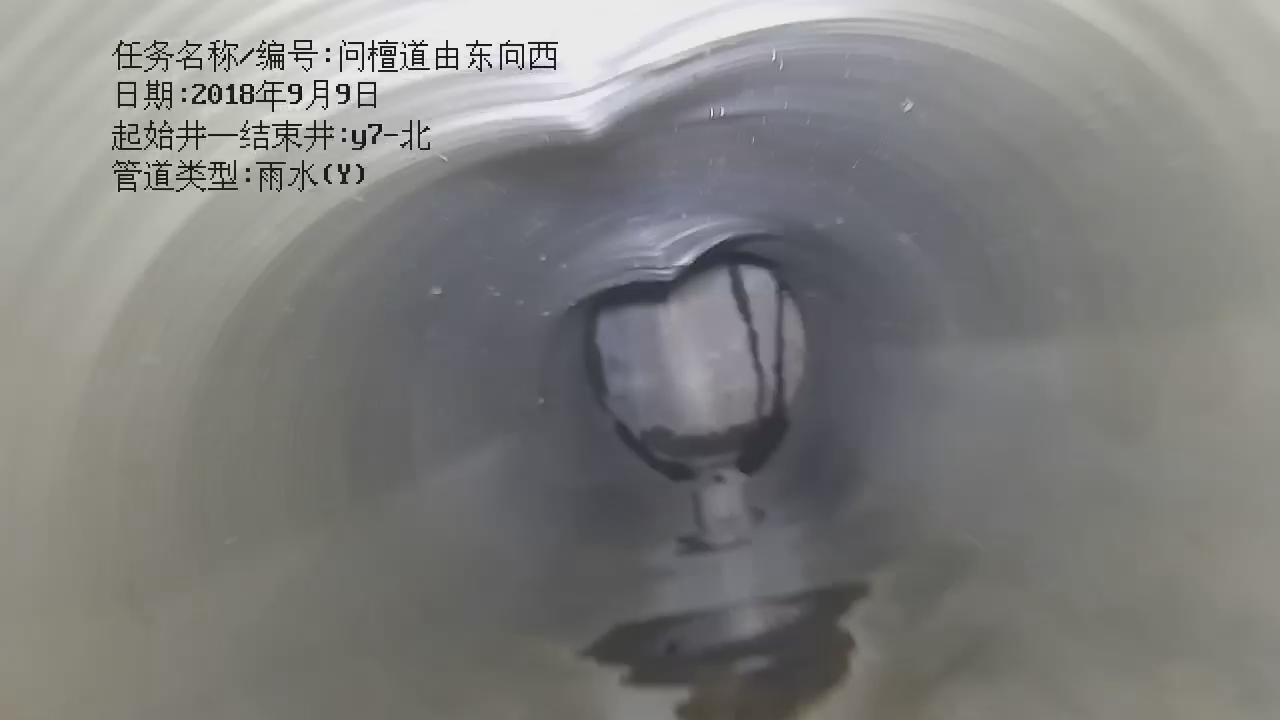BX: (553, 220, 838, 474)
